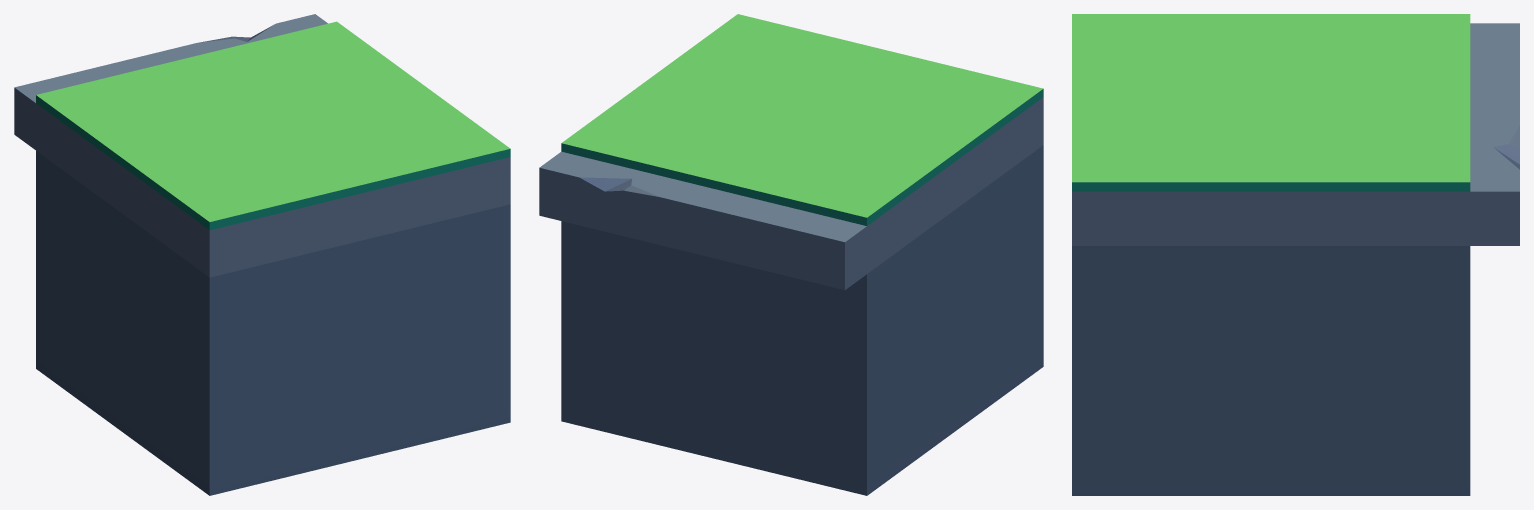
Rendered from Highland_Side_01.fbx.
3 renders of one model, left to right at view 1: azimuth 30°, elevation 25°; view 2: azimuth 150°, elevation 25°; view 3: azimuth 270°, elevation 25°, orthographic. The views are drawn at different scales.
Parts seen in each view (by area): view 1: Highland_Side_01; view 2: Highland_Side_01; view 3: Highland_Side_01.
Boxes of the visible parts, x1=… form: Highland_Side_01: x1=14, y1=14, x2=510, y2=495; Highland_Side_01: x1=539, y1=14, x2=1043, y2=495; Highland_Side_01: x1=1072, y1=14, x2=1519, y2=495.
Bounding box in the file's own units: 1.33 × 1.16 × 1.5.
